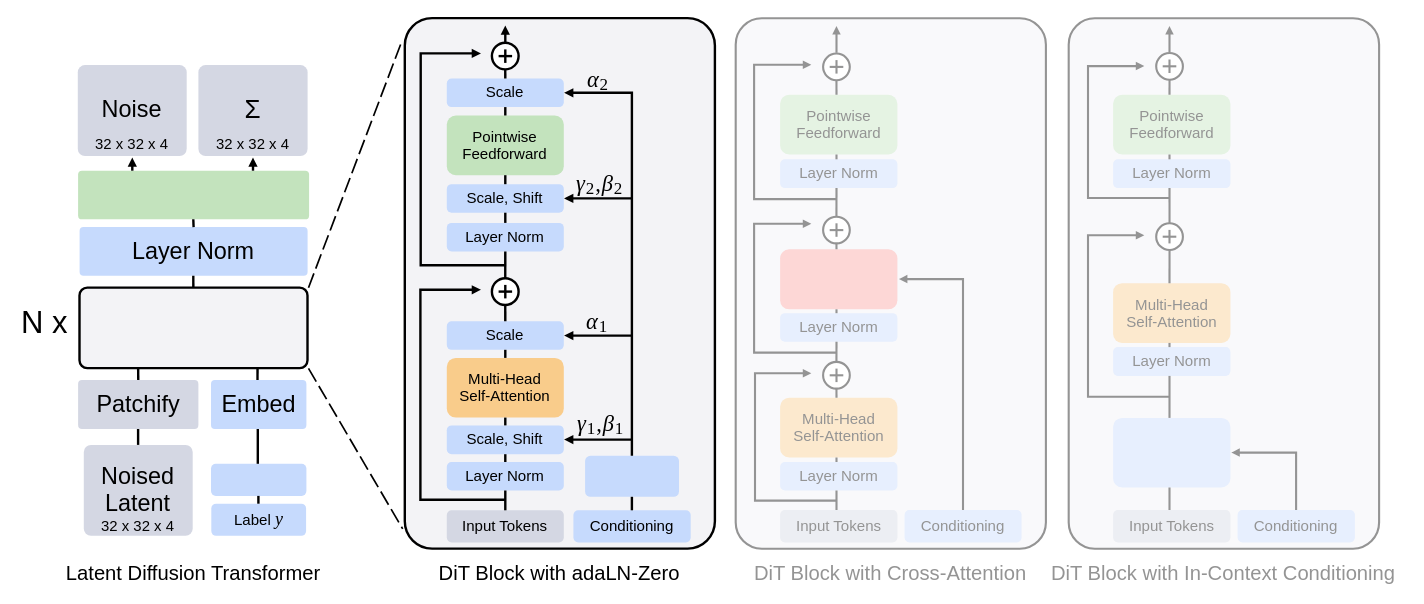
This 1424x604 diagram has some shape labels left out. The centre of each missing label's shape, as x and y in pixels:
Concatenate on Sequence Dimension: the point at 1171,452
DiT Block: the point at 193,327
Linear and Reshape: the point at 193,194
MLP: the point at 631,475
Multi-Head Cross-Attention: the point at 838,279
Timestep t: the point at 258,479
